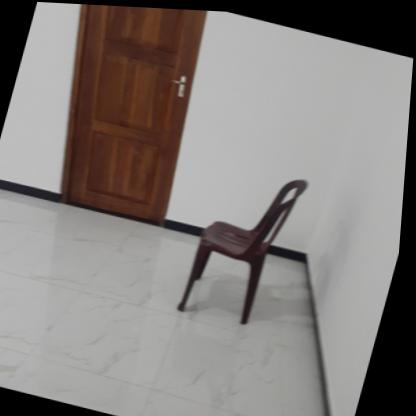Ceramic floor: (0, 183, 335, 416)
Chair: (178, 154, 311, 336)
